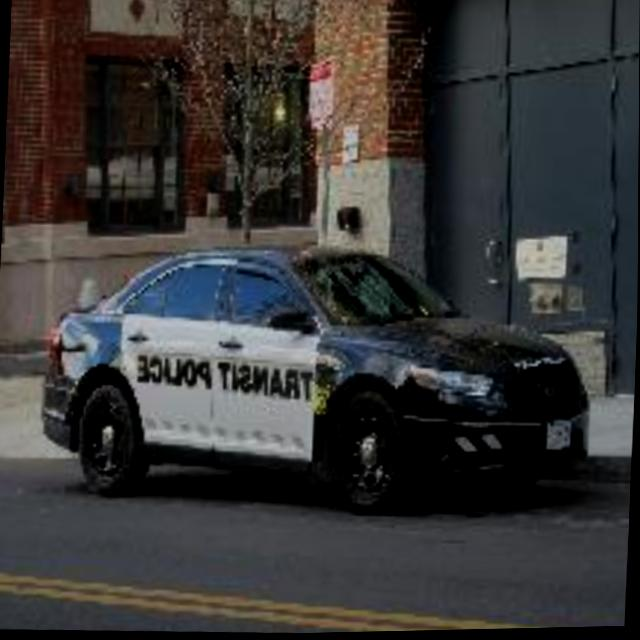emergency: (38, 234, 588, 519)
